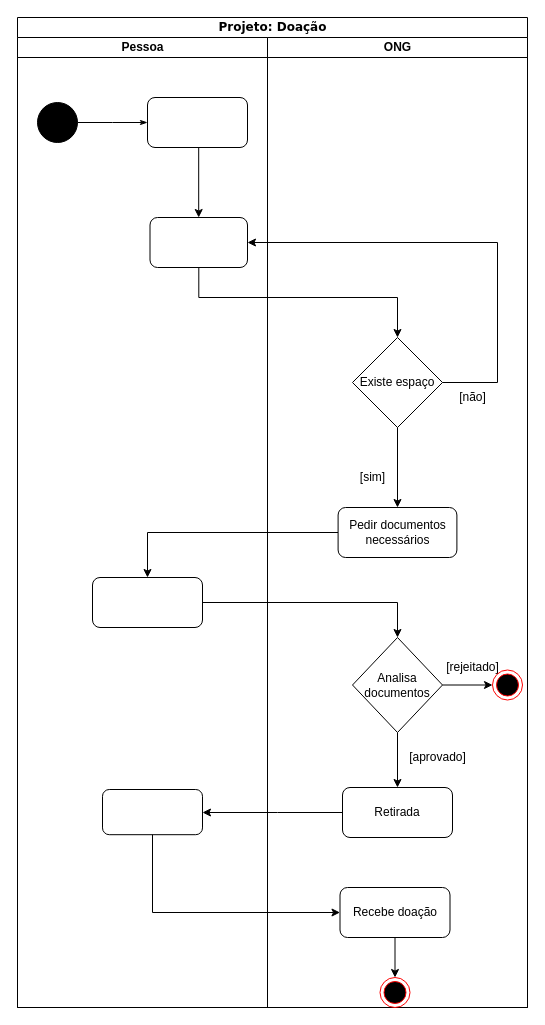
Some shapes in this 545 by 1025 pixel diagram are drawn without their labels. Each missing label, with the centre of its shape:
Buscar ONG: point 198,242
Entrega animal: point 152,811
Enviar documentos: point 147,602
Se interessar em doar: point 197,122
